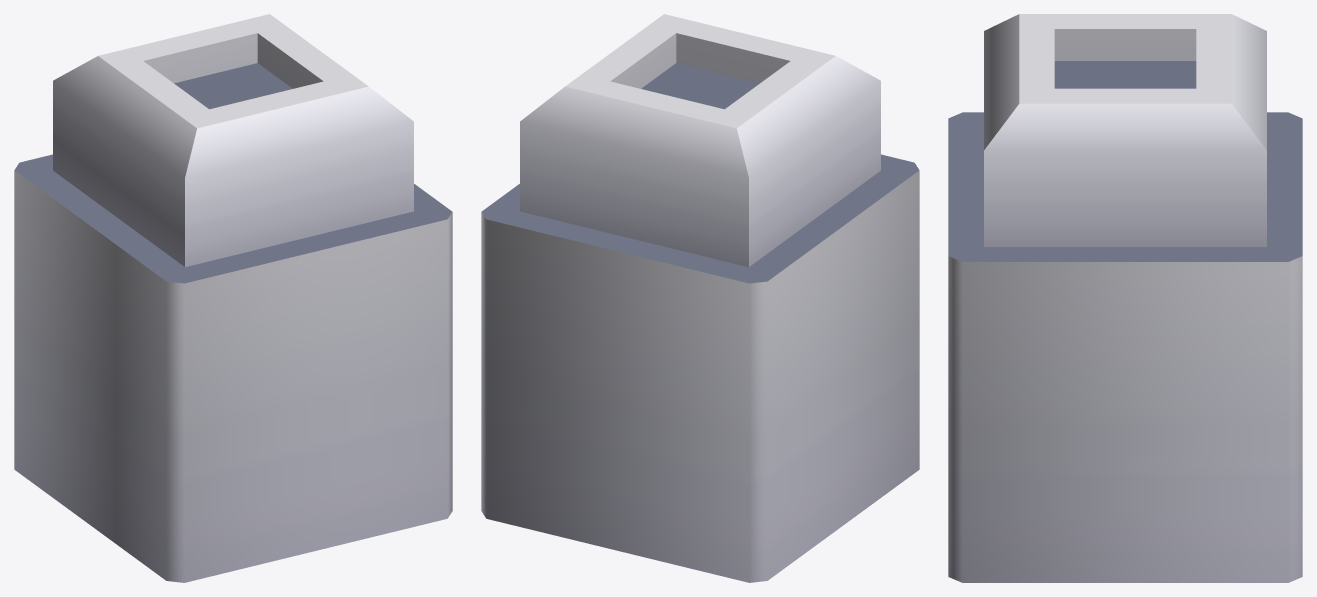
File: low-detail-building-n.glb
The picture shows the model from 3 angles, left to right: view 1: azimuth 30°, elevation 25°; view 2: azimuth 150°, elevation 25°; view 3: azimuth 270°, elevation 25°; orthographic projection. The views are drawn at different scales.
Visible parts, largest first — view 1: low-detail-building-n; view 2: low-detail-building-n; view 3: low-detail-building-n.
Boxes of the visible parts, bbox=[...] form: low-detail-building-n: bbox=[14, 14, 452, 582]; low-detail-building-n: bbox=[481, 14, 919, 582]; low-detail-building-n: bbox=[948, 14, 1302, 582].
Size of the model in its own units: 0.5 by 0.7 by 0.5.
1 material, 1 textured.
